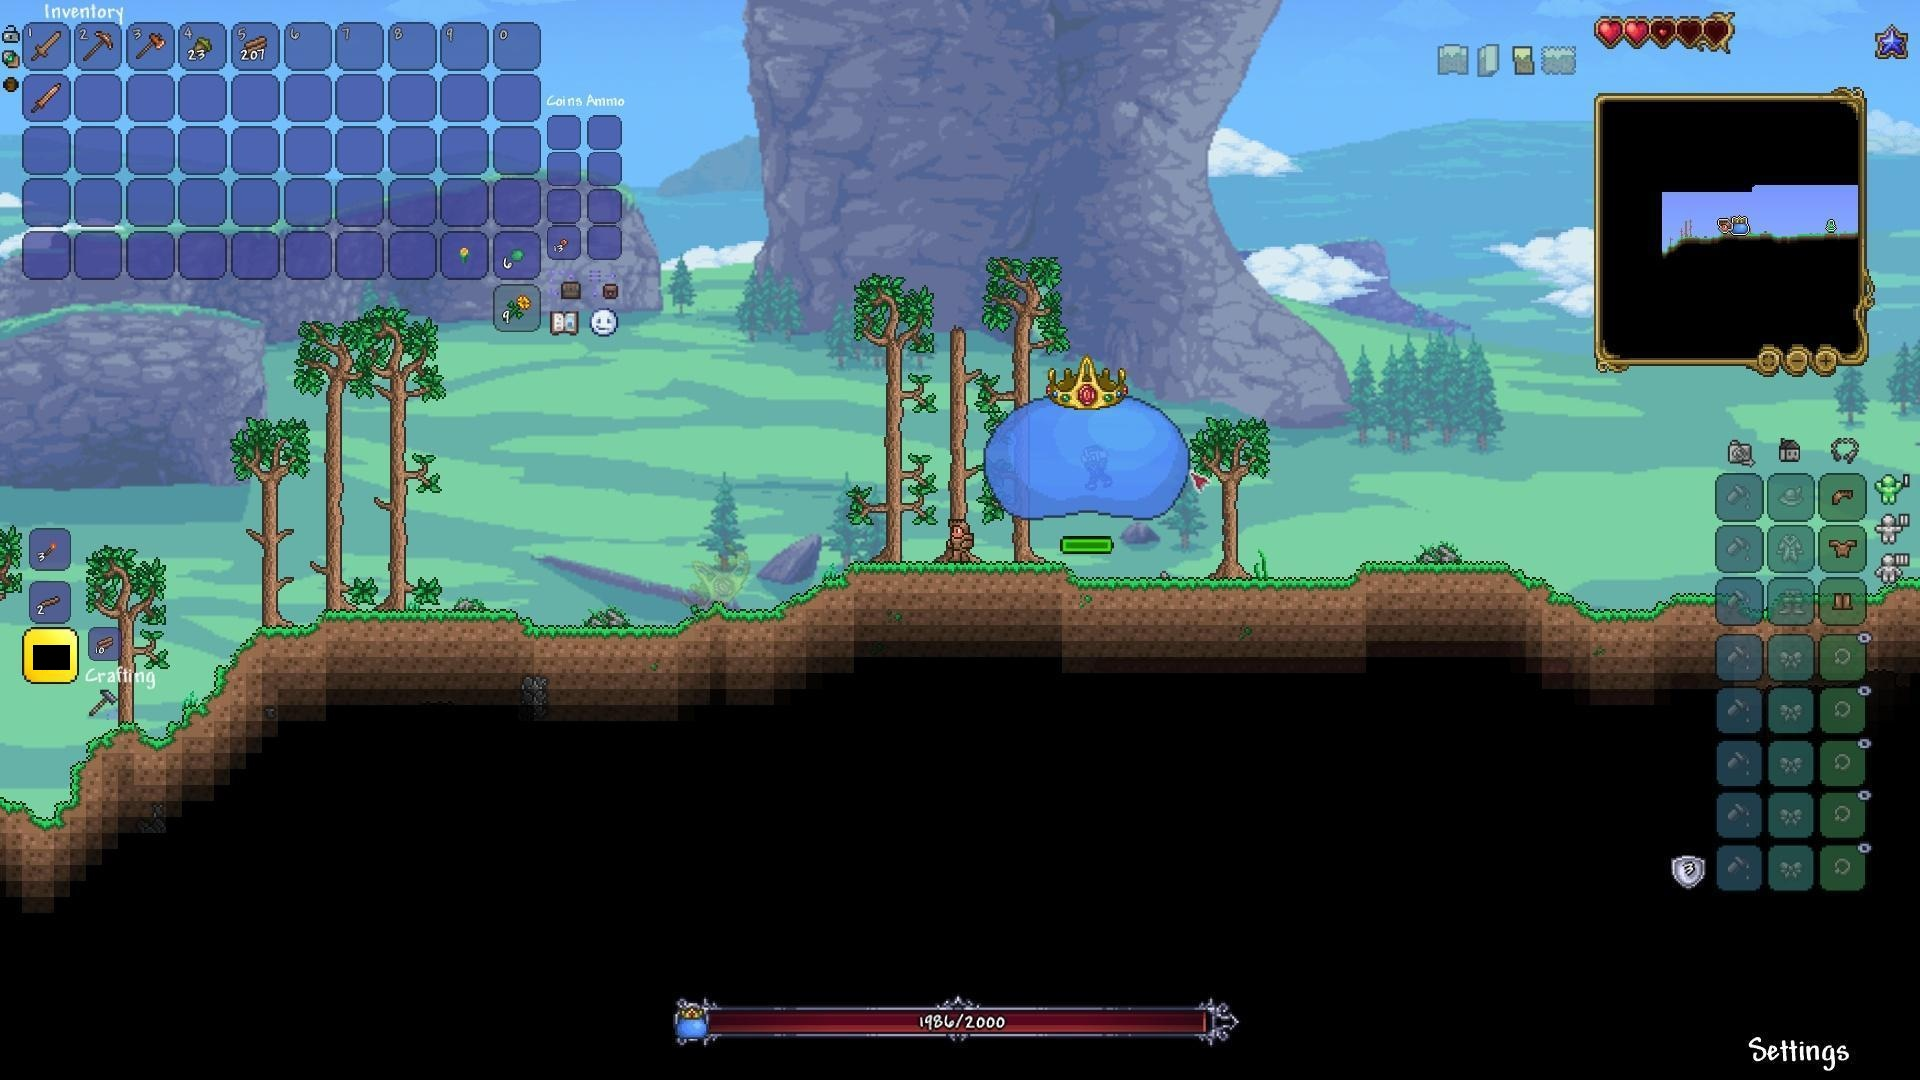breastplate: (1829, 535, 1859, 558)
helmet: (1828, 485, 1857, 510)
legs: (1832, 585, 1855, 615)
wood: (88, 629, 120, 659), (243, 34, 269, 59)
